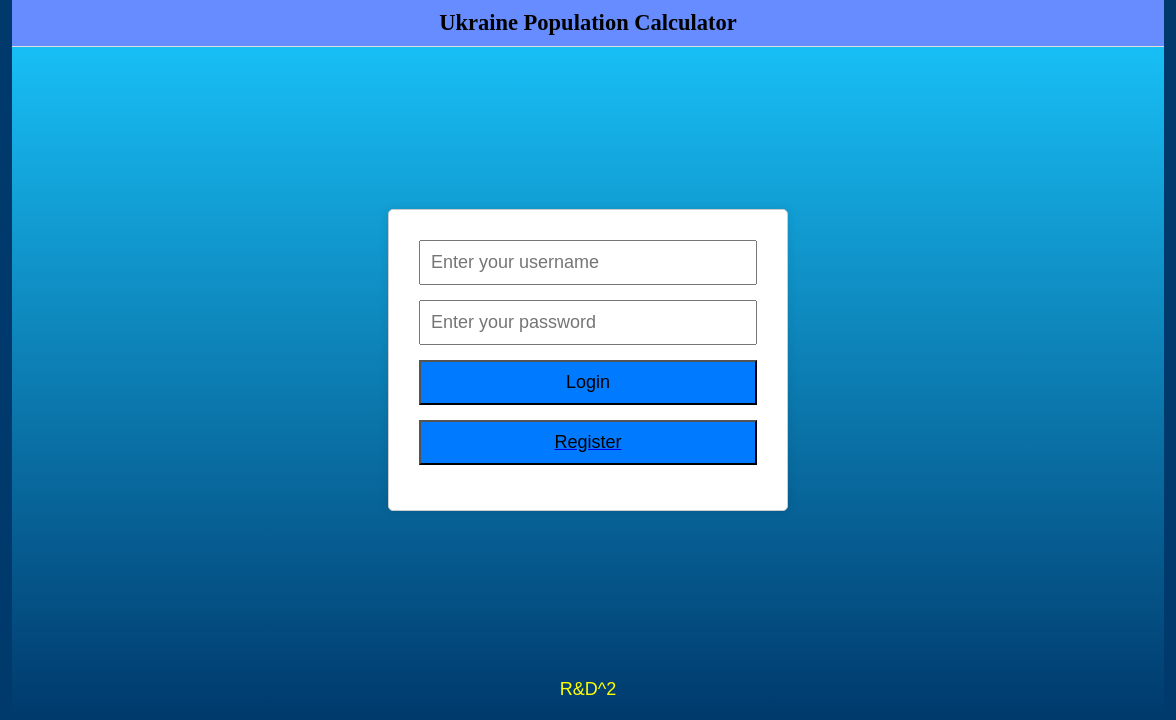
Scenario: Ukraine Population Calculator App › should display an error message for invalid user login
This screenshot has width=1176, height=720.
Type "testuser_wrong" into the field with id "username" at (588, 263), box [419,240,757,285]
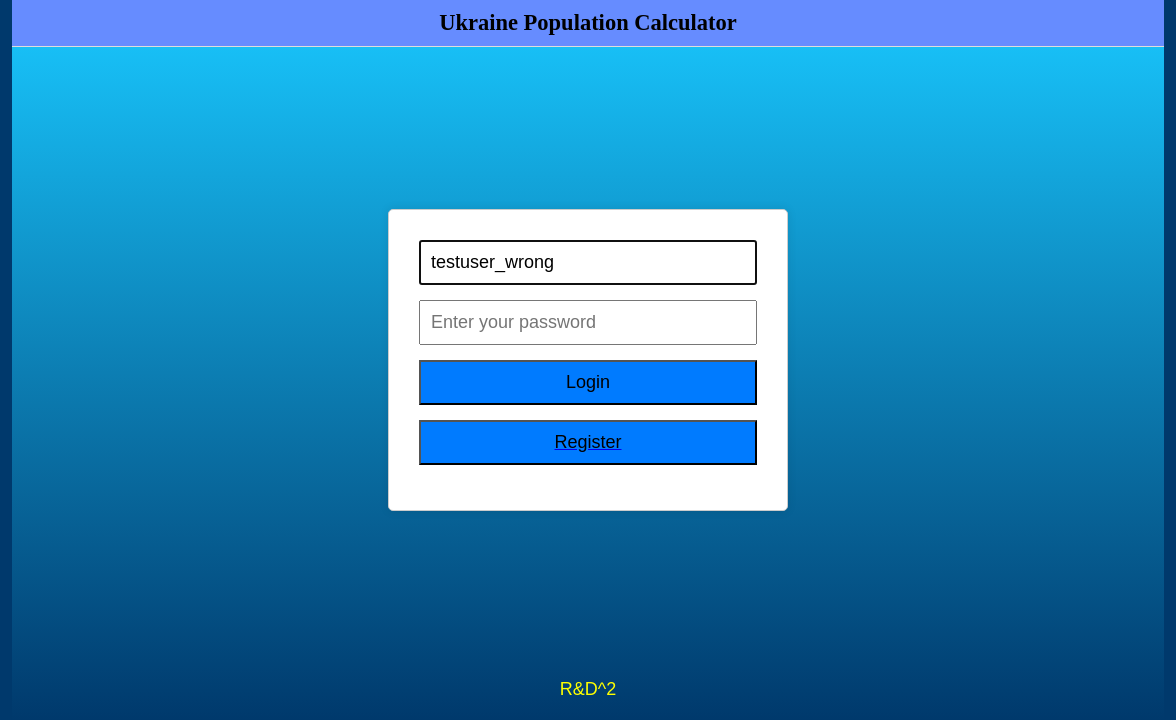
Type "password" into the password field with placeholder "Enter your password" at (588, 323), box [419,300,757,345]
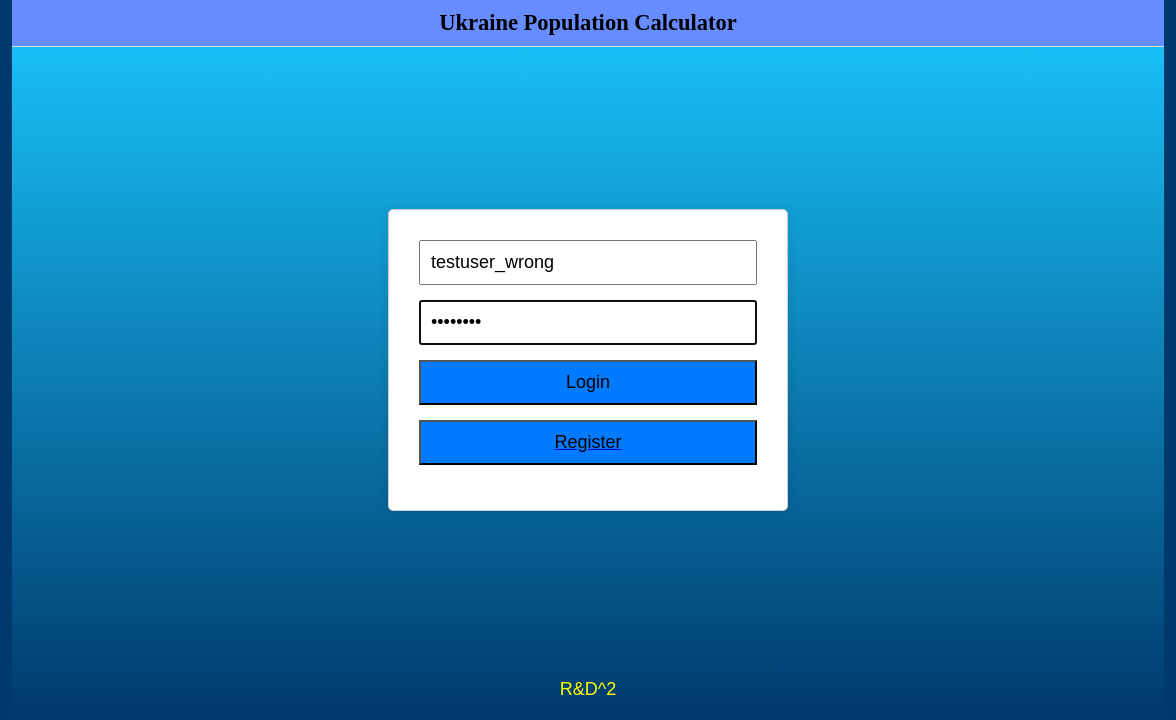
Submit the form, box [419,240,757,465]
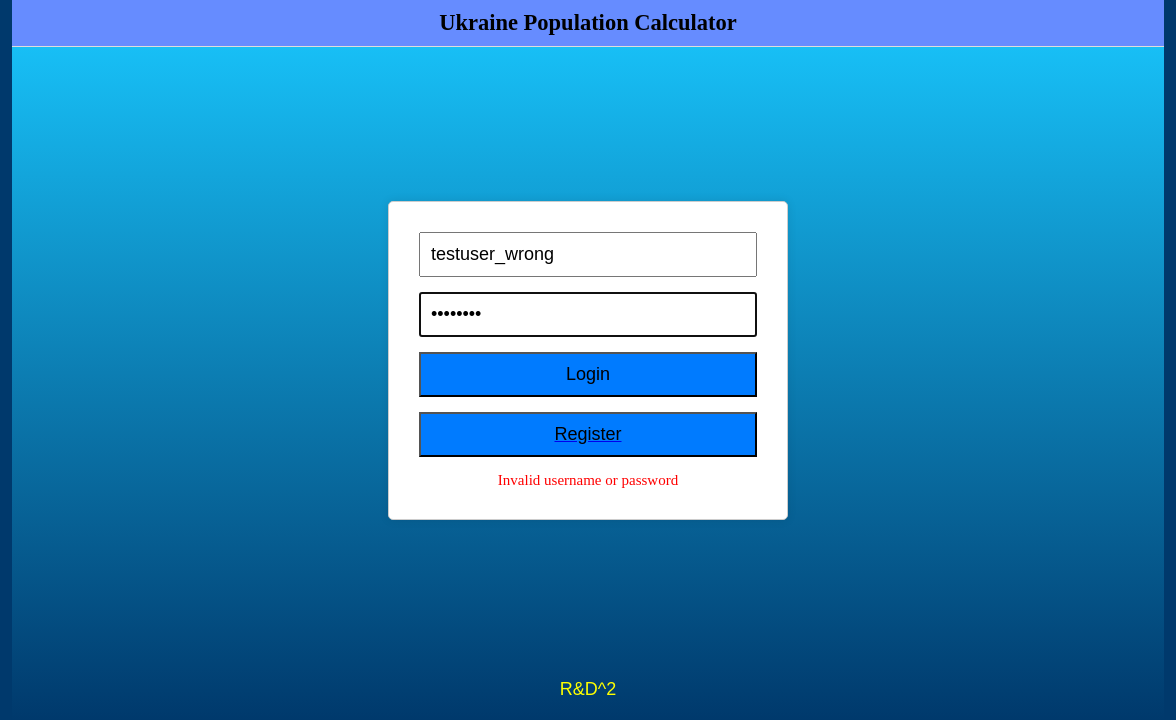
expect the text with class "error" reads "Invalid username or password": met, box [498,472,678,488]
